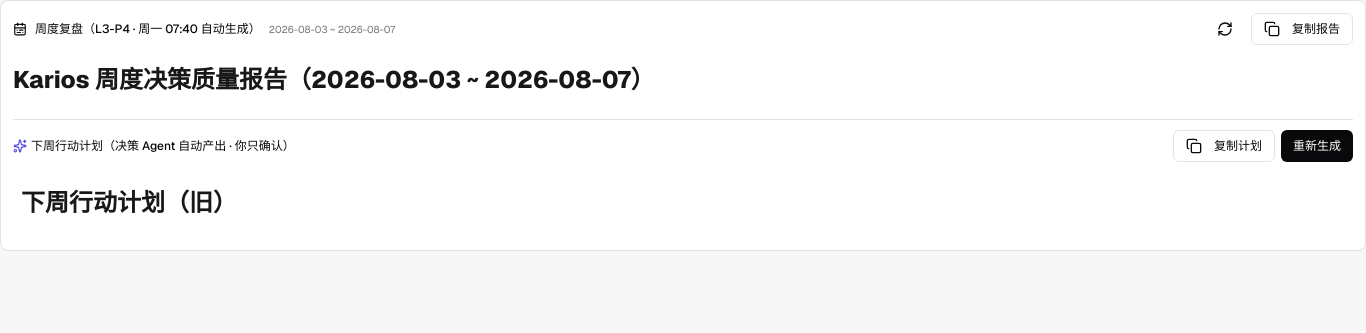
Scenario: WeeklyReviewCard › generates a new plan and stores it
Expected: the heading "下周行动计划（旧）" is shown, [21,187,237,218]
Click the button "重新生成" at (1317, 146), box [1281,130,1353,162]
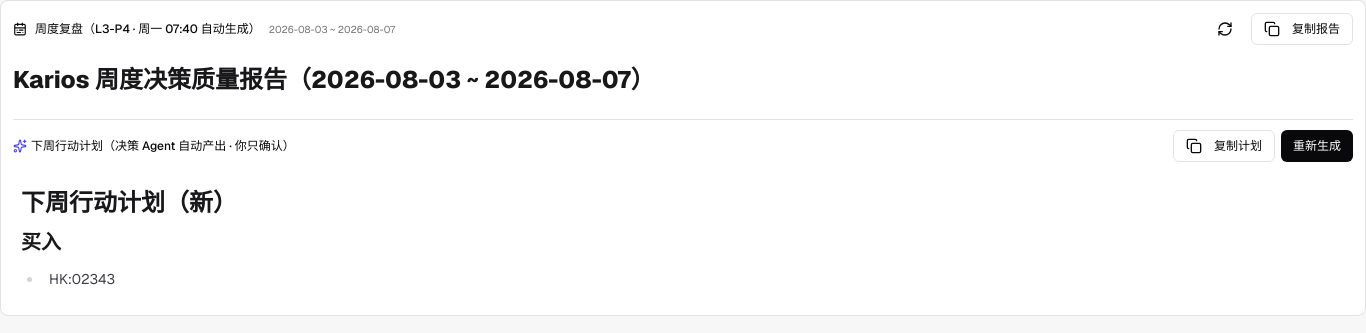
Now the heading "下周行动计划（新）" is shown, box [21,187,237,218]
